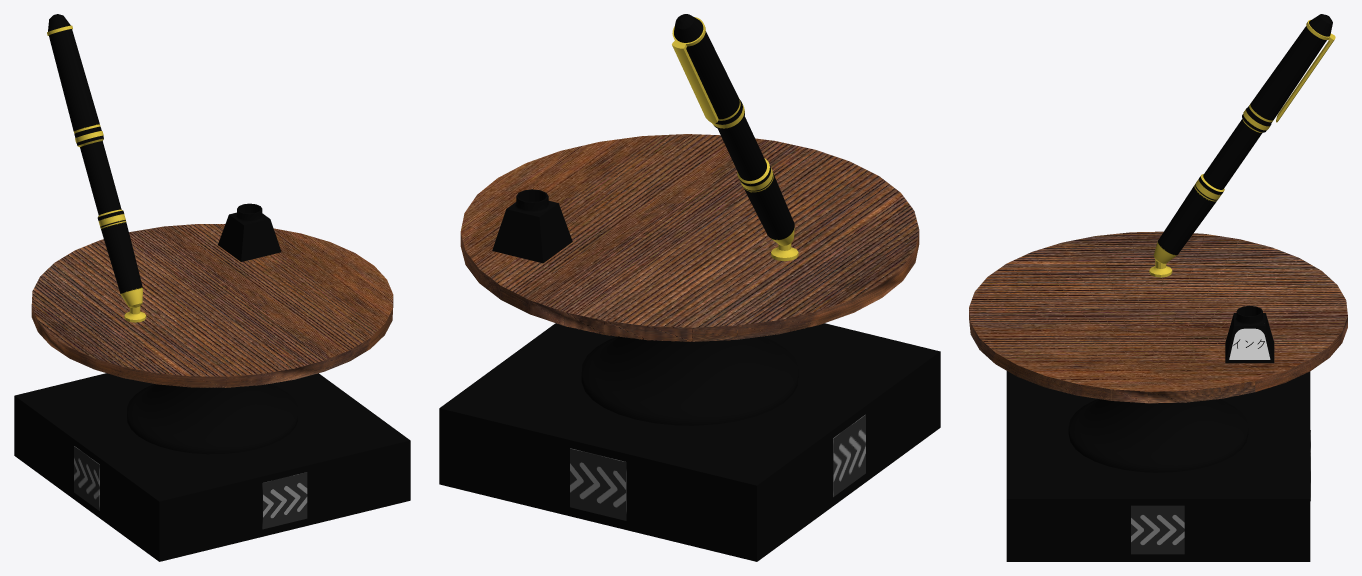
Rendered from stylo.fbx.
3 renders of one model, left to right at view 1: azimuth 30°, elevation 25°; view 2: azimuth 150°, elevation 25°; view 3: azimuth 270°, elevation 25°, orthographic. The views are drawn at different scales.
Visible parts, largest first — view 1: Base, WoodTable, Stylo, Logos, Bouchon, Ink Pot; view 2: Base, WoodTable, Stylo, Logos, Ink Pot, Bouchon; view 3: Base, WoodTable, Stylo, Logos, Bouchon, Ink Pot.
Part boxes in pixels (<box>): Base: <box>14,373,410,561</box>; WoodTable: <box>31,224,393,387</box>; Stylo: <box>47,14,121,214</box>; Logos: <box>74,446,307,529</box>; Bouchon: <box>97,209,146,322</box>; Ink Pot: <box>218,203,281,261</box>; Base: <box>439,323,940,561</box>; WoodTable: <box>460,134,919,341</box>; Stylo: <box>672,14,766,180</box>; Logos: <box>570,414,865,520</box>; Ink Pot: <box>492,189,572,263</box>; Bouchon: <box>737,158,798,261</box>; Base: <box>1006,371,1310,561</box>; WoodTable: <box>969,231,1347,403</box>; Stylo: <box>1203,14,1335,189</box>; Logos: <box>1131,430,1310,554</box>; Bouchon: <box>1149,174,1224,277</box>; Ink Pot: <box>1225,305,1274,363</box>.
Bounding box in the file's own units: 198 × 256 × 198.
6 materials, 6 textured.
